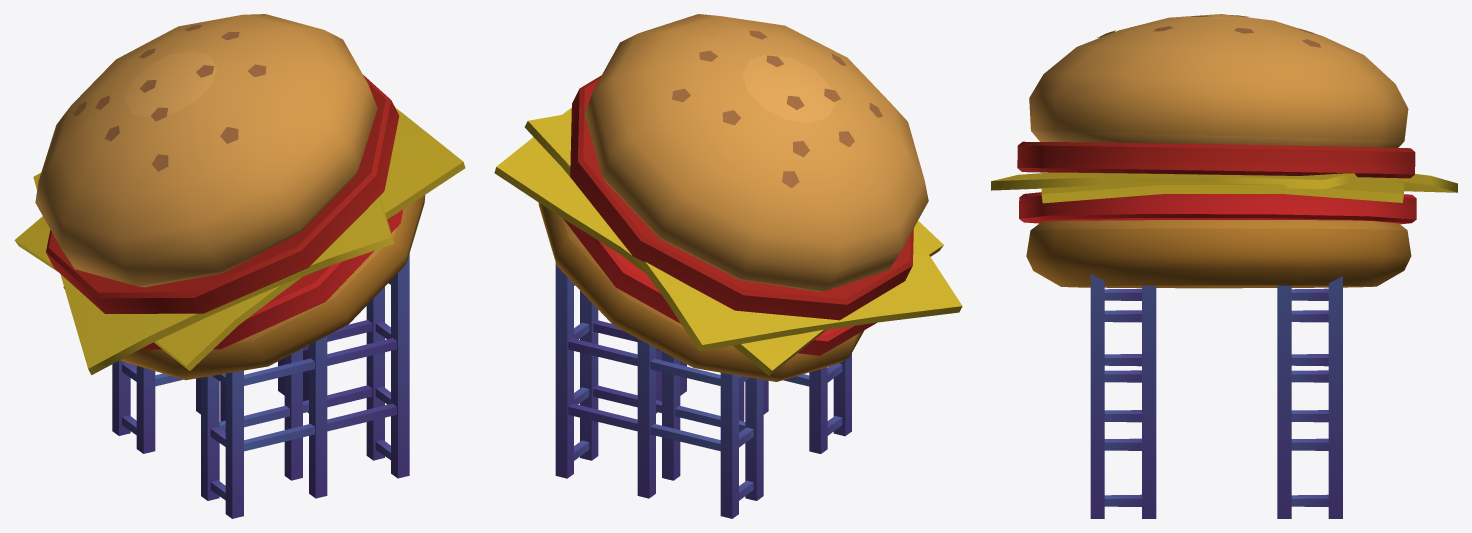
Rendered from BurgerSign_2_A.fbx.
3 renders of one model, left to right at view 1: azimuth 30°, elevation 25°; view 2: azimuth 150°, elevation 25°; view 3: azimuth 270°, elevation 25°, orthographic. The views are drawn at different scales.
Visible parts, largest first — view 1: BurgerSign_2_A; view 2: BurgerSign_2_A; view 3: BurgerSign_2_A.
Boxes of the visible parts, bbox=[...] form: BurgerSign_2_A: bbox=[14, 14, 465, 518]; BurgerSign_2_A: bbox=[494, 14, 962, 518]; BurgerSign_2_A: bbox=[991, 14, 1457, 518].
Size of the model in its own units: 3.58 by 4.02 by 3.88.
